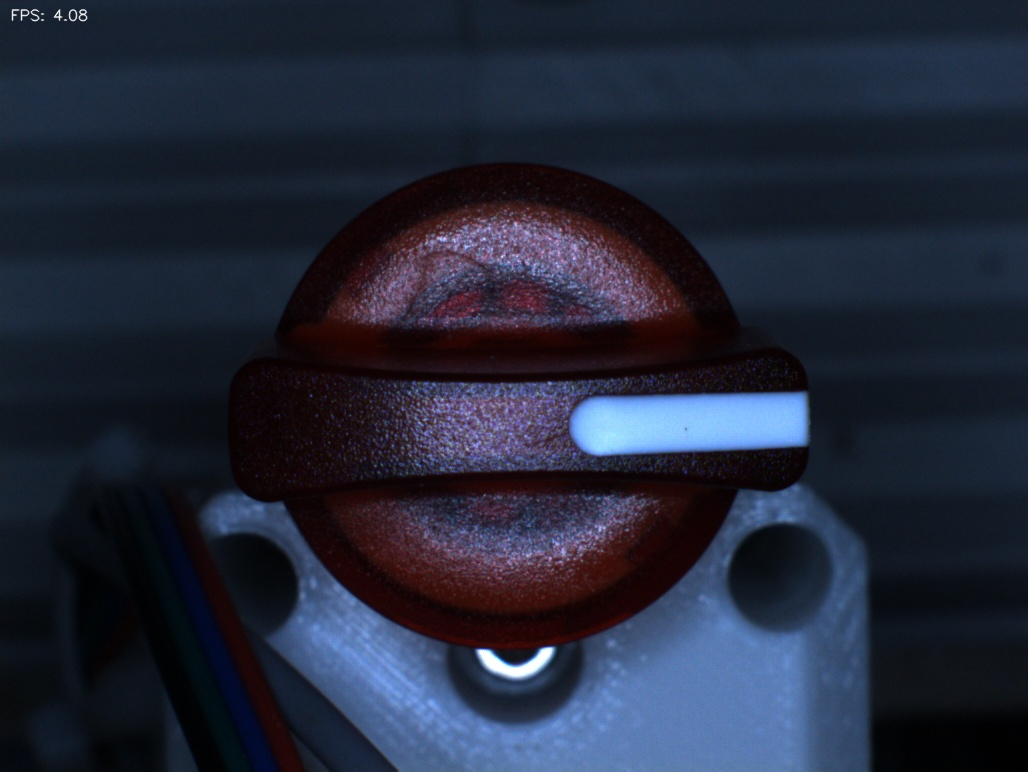PointNoir: (651, 399, 714, 452)
